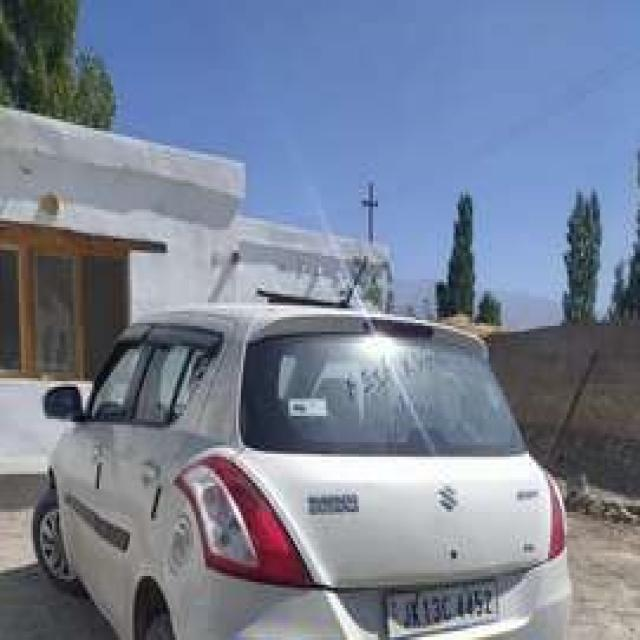plate: (380, 576, 501, 637)
